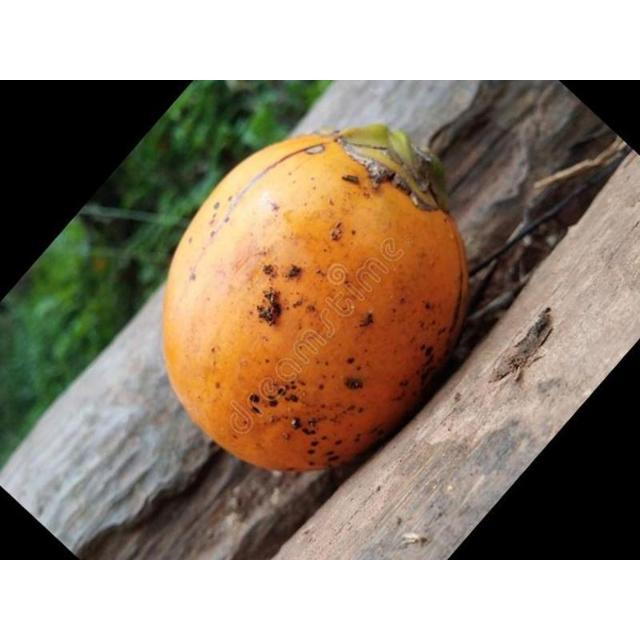good: (159, 123, 469, 473)
